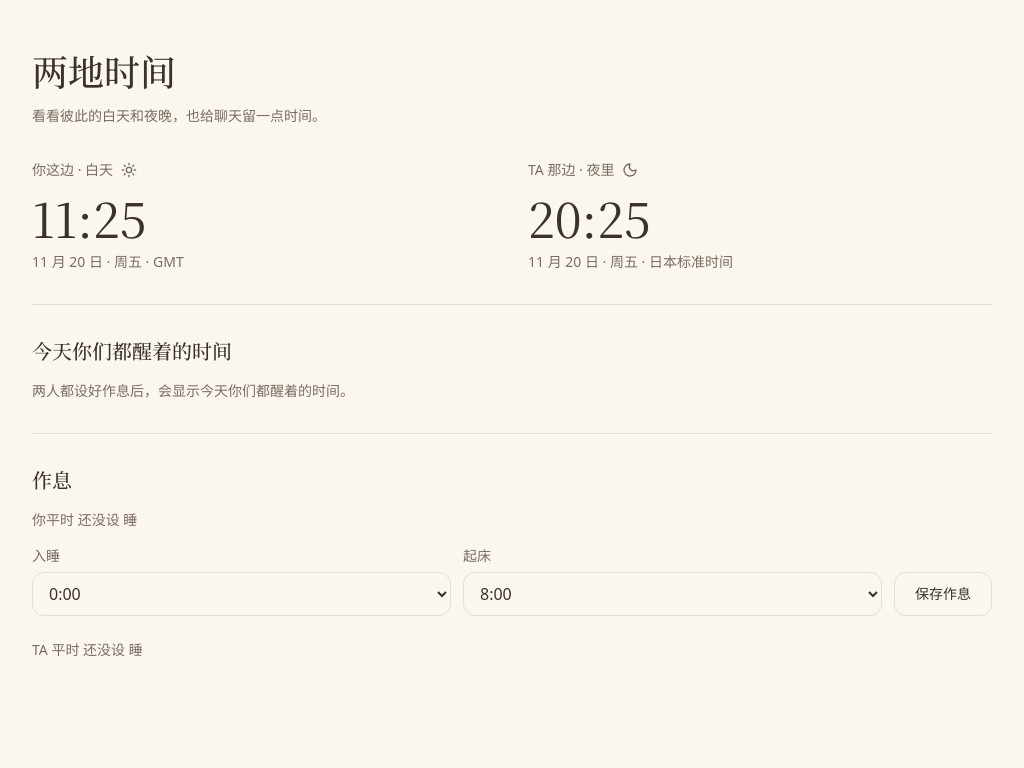
Test: ClocksPage › [adr:two-clocks#3] saves a sleep schedule that crosses midnight
Select "23:30" in the dropdown labelled "入睡" at (242, 594), box [32,572,451,616]
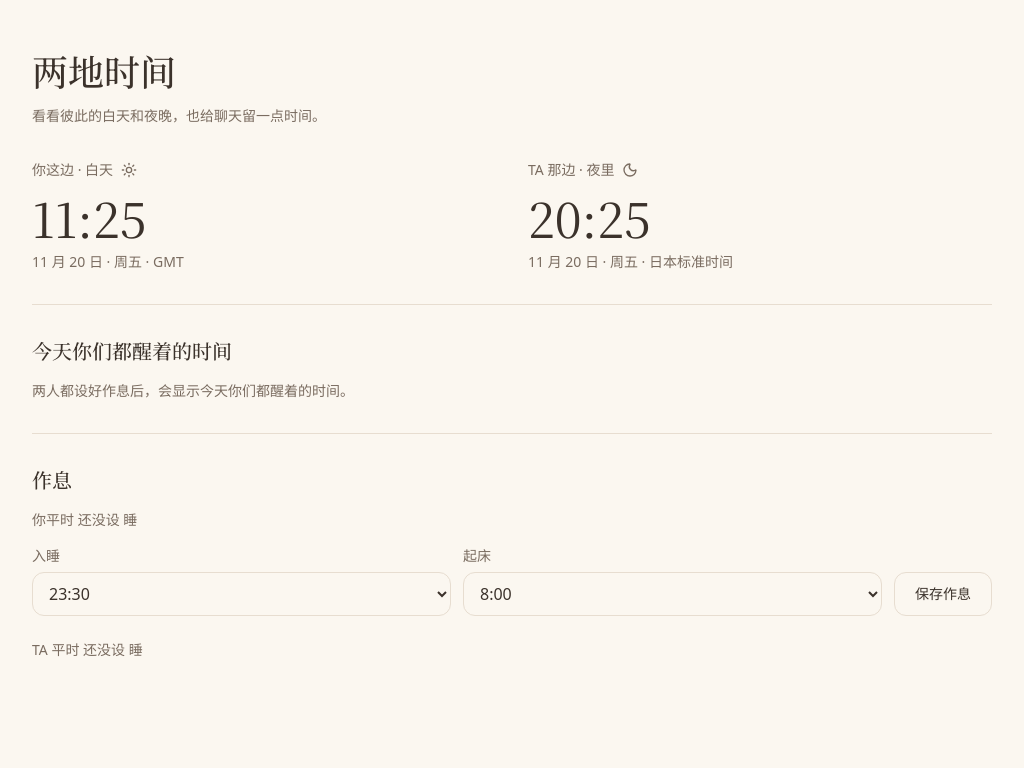
Select "7:30" in the dropdown labelled "起床" at (672, 594), box [463,572,882,616]
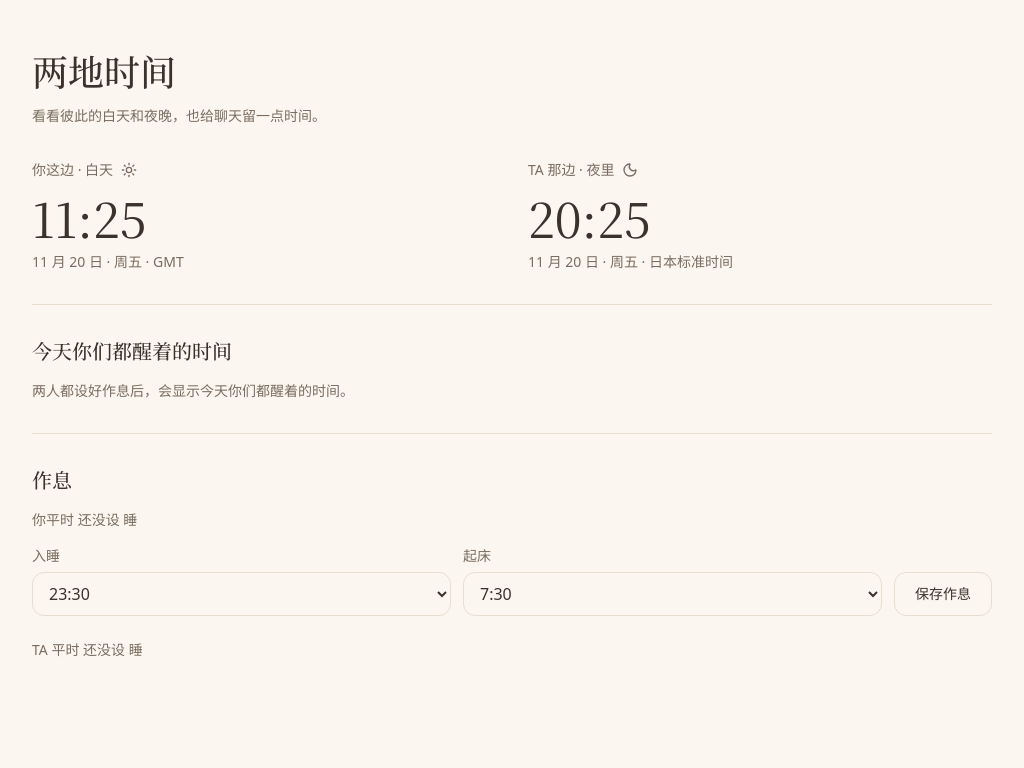
Click the button "保存作息" at (943, 594), box [894,572,992,616]
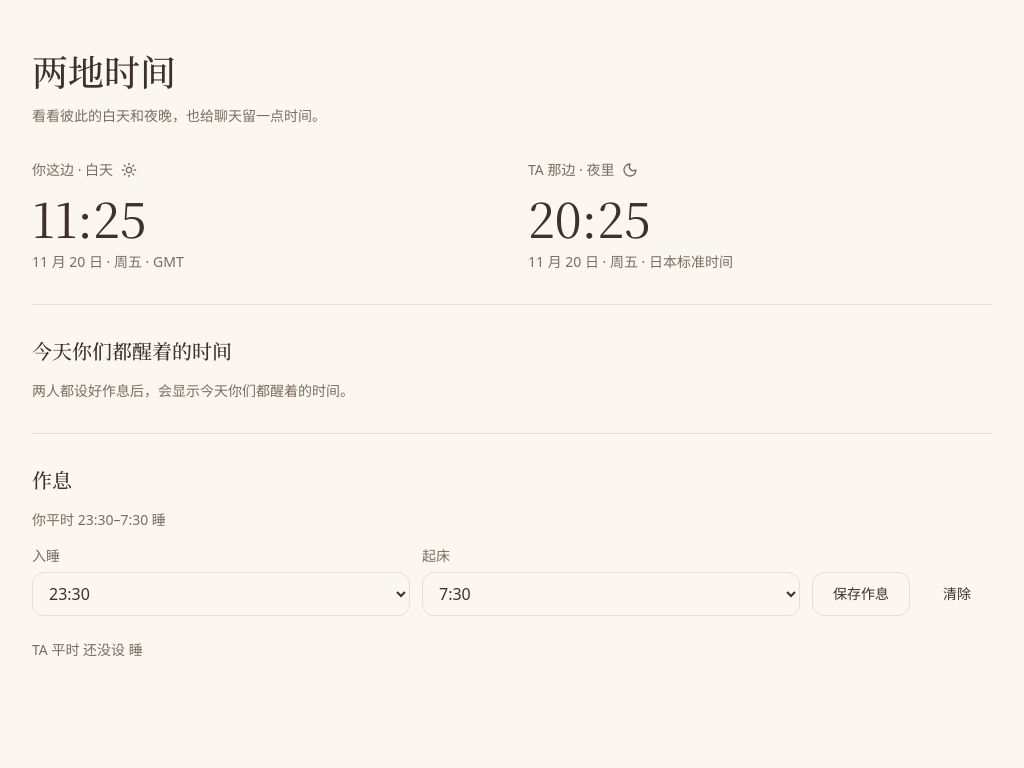
Expected: the text "你平时 23:30–7:30 睡" is shown, [32,510,166,529]
